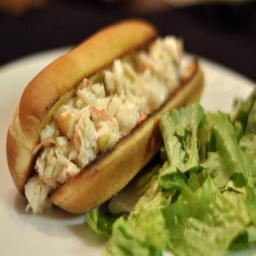hotdog: (6, 17, 194, 208)
